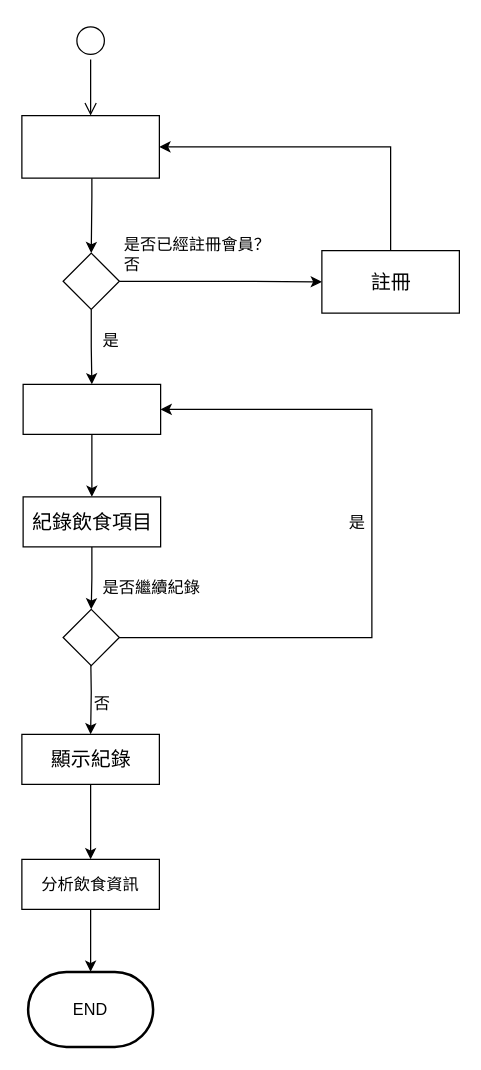
This 481x1070 diagram has some shape labels left out. The shapes that lost their labels are listed below. From the top down, each one's box as (x1, y1, x2, y2) in pixels, then its label:
(21, 114, 159, 178): 使用者登入
(22, 383, 161, 434): 使用條碼掃描
